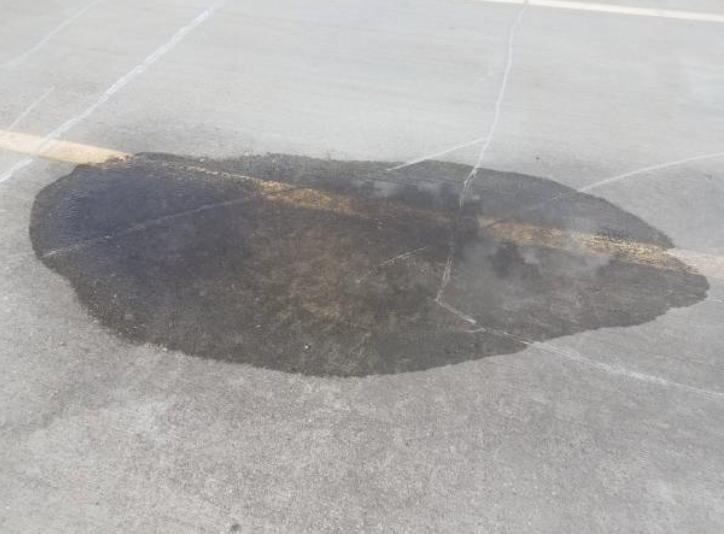oil: (15, 75, 357, 191)
